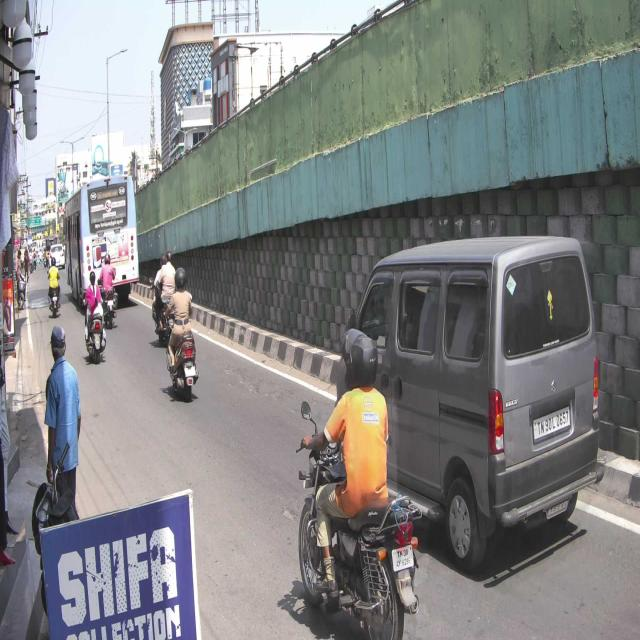single_rider: (295, 326, 424, 640)
